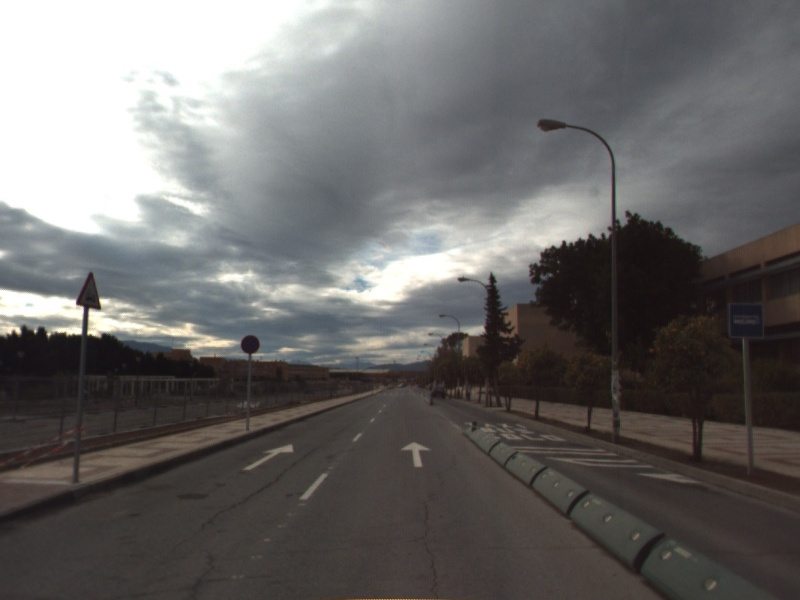STRAIGHT: (240, 441, 295, 472), (399, 439, 434, 469)
